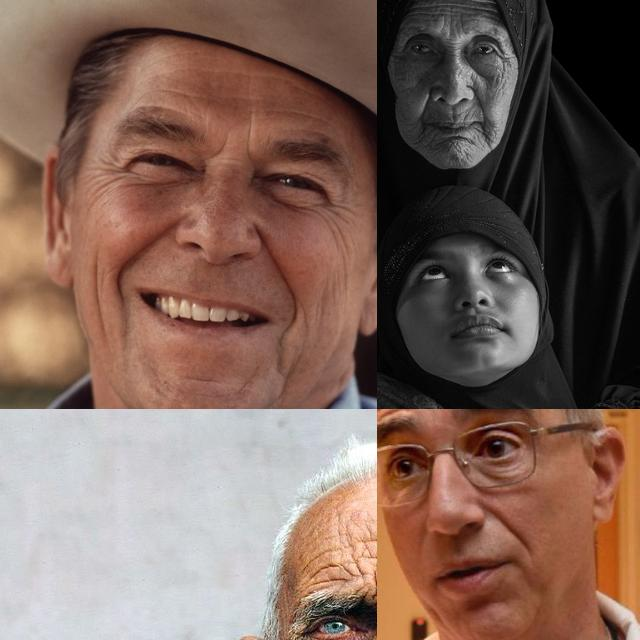chin: (268, 339, 302, 389), (172, 364, 220, 388), (440, 132, 476, 144)
crows_feet: (323, 187, 355, 236), (92, 150, 128, 188), (498, 48, 514, 76), (288, 629, 309, 640)
forehead: (155, 84, 211, 110), (305, 552, 343, 584), (350, 535, 377, 572), (278, 104, 332, 122), (474, 0, 499, 21), (416, 0, 440, 17), (448, 0, 473, 14)
frown_line: (239, 118, 259, 164), (206, 128, 232, 162), (445, 36, 461, 60)
gummy_smile: (256, 226, 310, 298), (119, 226, 178, 276), (484, 503, 534, 547), (470, 86, 490, 114), (416, 90, 432, 116)
masseter: (80, 259, 114, 317)
sad_smile: (416, 119, 432, 149), (478, 122, 494, 146)
